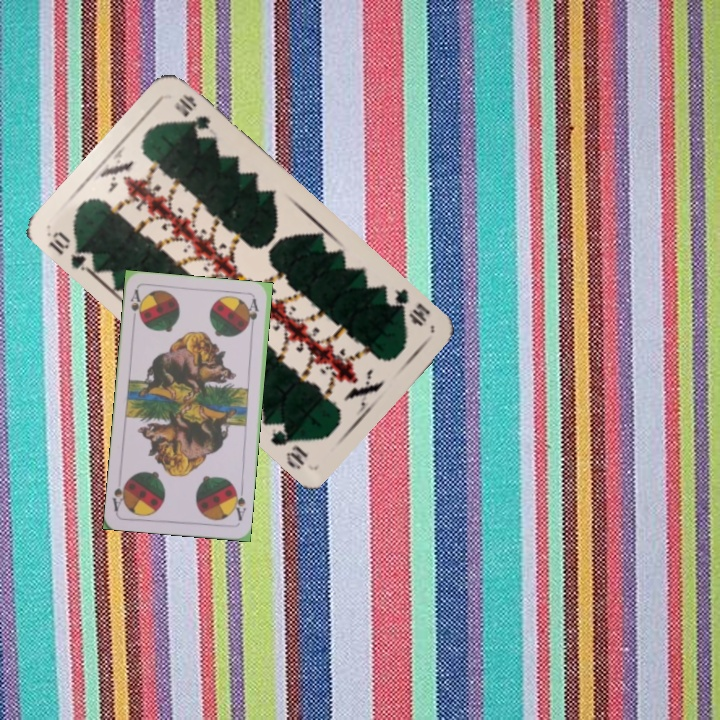G10: (43, 227, 97, 275), (388, 284, 433, 330)
SA: (228, 483, 249, 523), (126, 285, 146, 326)
